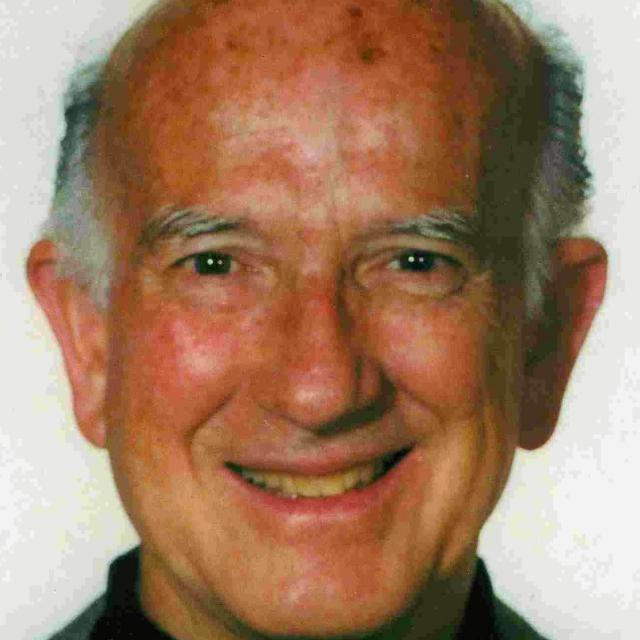Normal: (102, 0, 536, 636)
